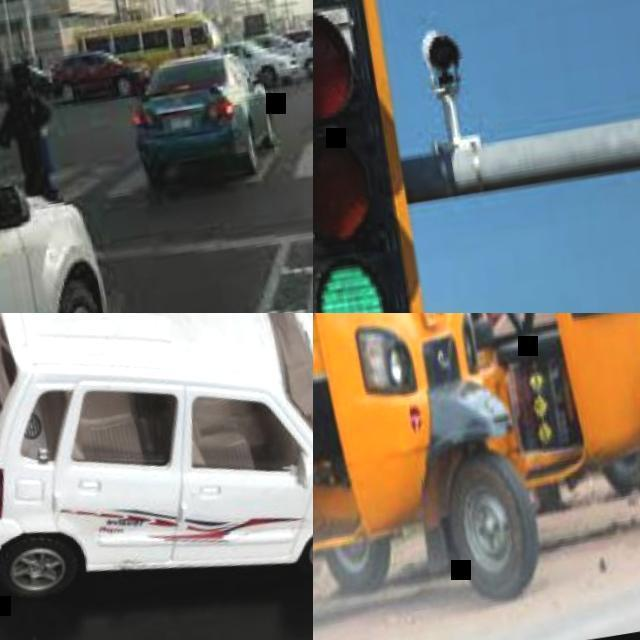car: (1, 317, 312, 612), (131, 45, 278, 186)
